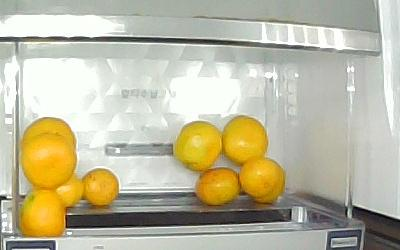tangerine: (23, 132, 78, 187), (174, 121, 223, 171), (222, 116, 269, 166), (18, 188, 64, 239), (22, 117, 76, 155), (194, 168, 241, 206), (239, 157, 284, 196), (82, 168, 120, 207), (254, 166, 285, 203), (55, 172, 83, 208)
